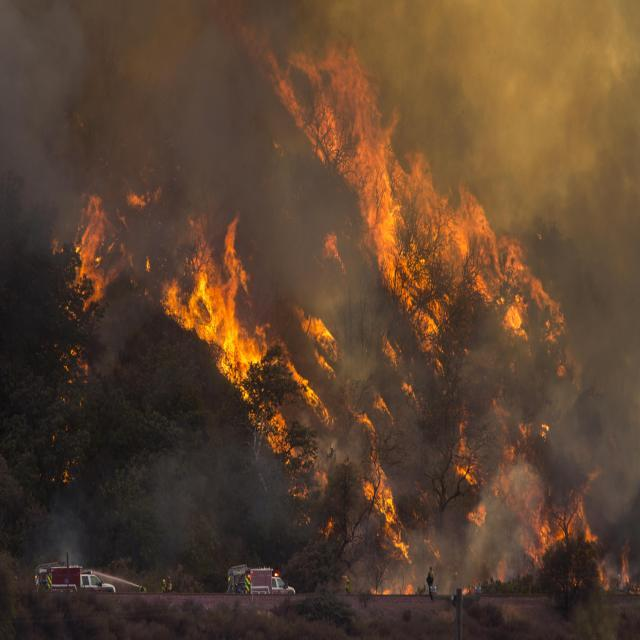Fire: (322, 53, 554, 359), (160, 223, 295, 438), (500, 470, 608, 556), (353, 454, 416, 574), (56, 197, 116, 313), (294, 293, 348, 414)
Smoke: (6, 0, 632, 265), (275, 240, 640, 536)
